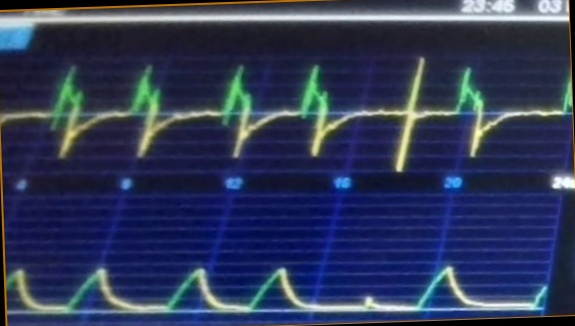Accumulation Flow: (7, 53, 571, 170)
Volume: (8, 241, 542, 316)
